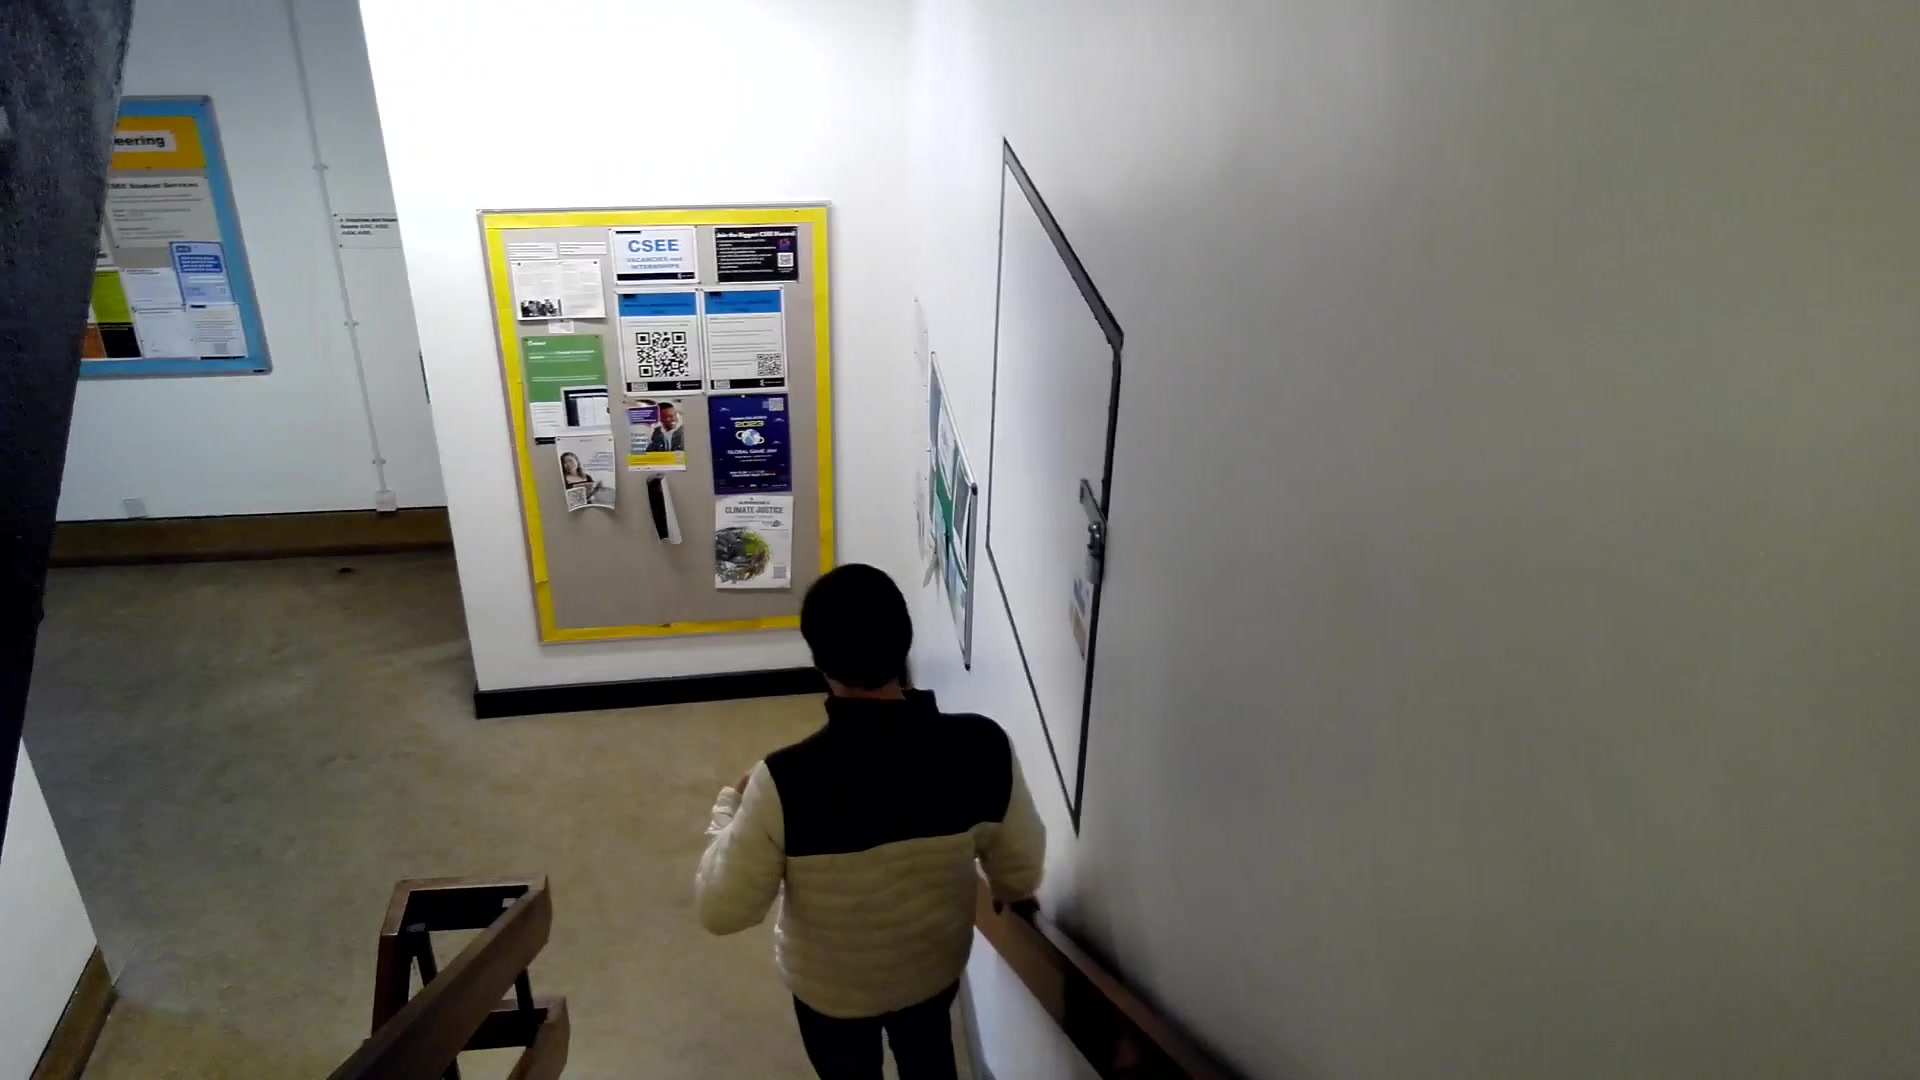Person: (717, 565, 1032, 1071)
